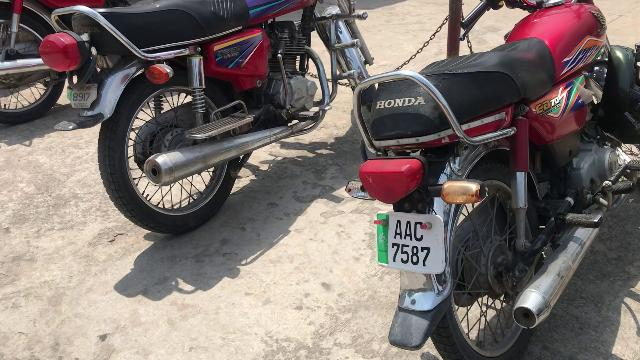plate: (380, 210, 444, 270)
